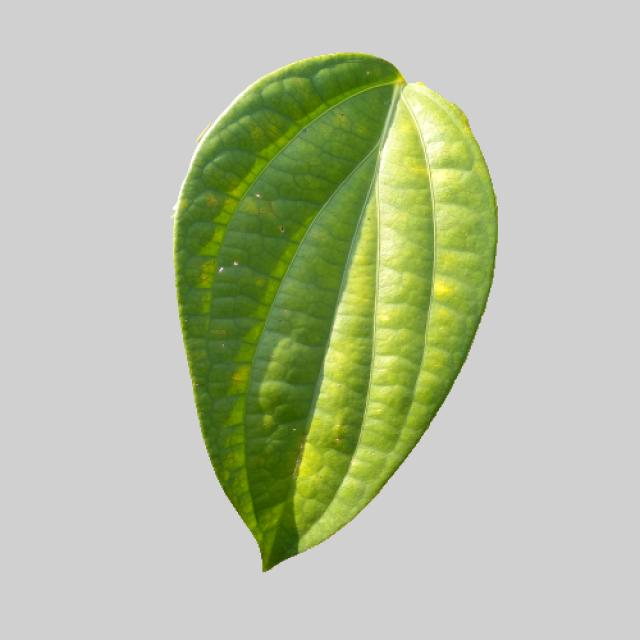healthy: (162, 46, 502, 582)
